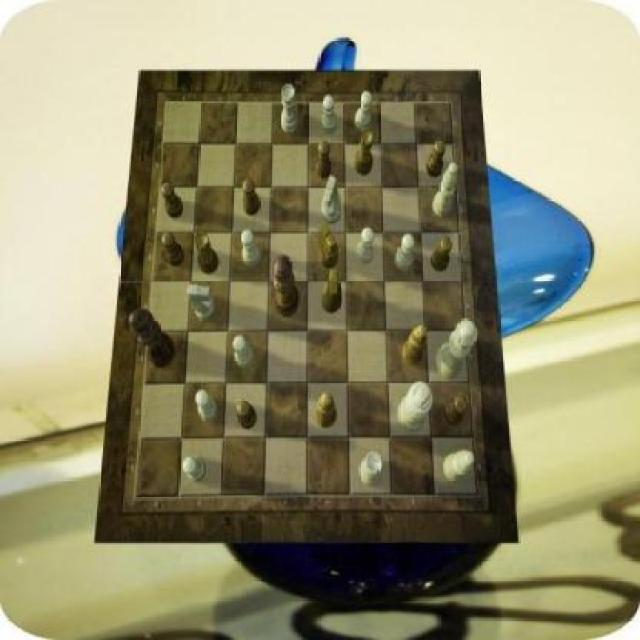bishop: (403, 325, 428, 366), (315, 392, 338, 428)
black-bishop: (131, 308, 175, 368)
black-king: (323, 269, 343, 315), (320, 223, 340, 269)
black-knight: (161, 182, 184, 218), (163, 232, 186, 267), (426, 140, 446, 178), (431, 237, 453, 271), (444, 396, 468, 426), (242, 179, 259, 216), (237, 400, 257, 431), (316, 140, 332, 178)
black-pawn: (272, 255, 300, 318)
black-queen: (194, 231, 218, 273), (355, 129, 373, 177)
black-rook: (434, 162, 458, 216), (443, 449, 475, 483)
white-bishop: (398, 381, 434, 434)
white-king: (189, 284, 217, 320), (322, 177, 342, 225)
white-knight: (242, 229, 262, 267), (396, 232, 416, 270), (196, 391, 217, 423), (233, 337, 254, 369), (355, 228, 373, 264), (356, 91, 372, 131), (183, 455, 207, 481), (321, 95, 337, 134)
white-pawn: (436, 320, 478, 380)
white-queen: (282, 84, 299, 134), (360, 451, 383, 485)
